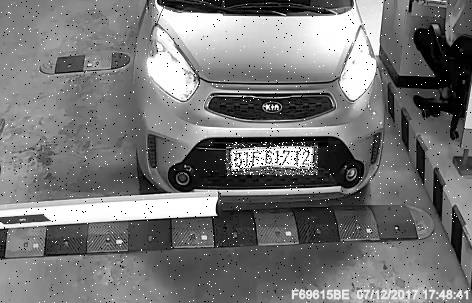License-plate: (227, 144, 319, 178)
